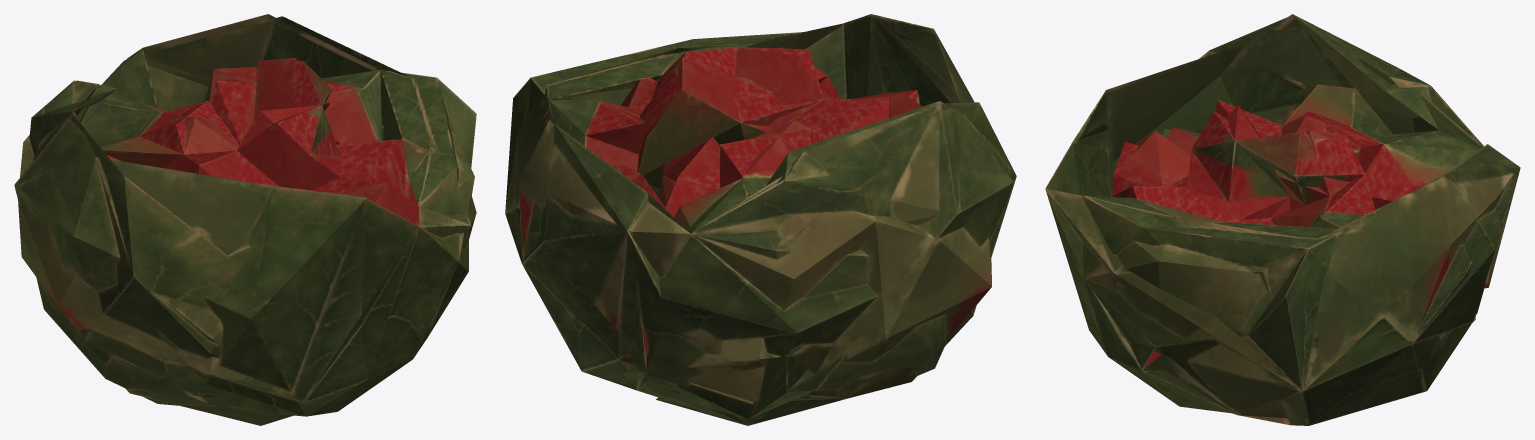
Rendered from sanddalgi.glb.
The picture shows the model from 3 angles, left to right: view 1: azimuth 30°, elevation 25°; view 2: azimuth 150°, elevation 25°; view 3: azimuth 270°, elevation 25°; orthographic projection. The views are drawn at different scales.
Size of the model in its own units: 1.89 by 1.32 by 1.85.
1 material, 1 textured.
